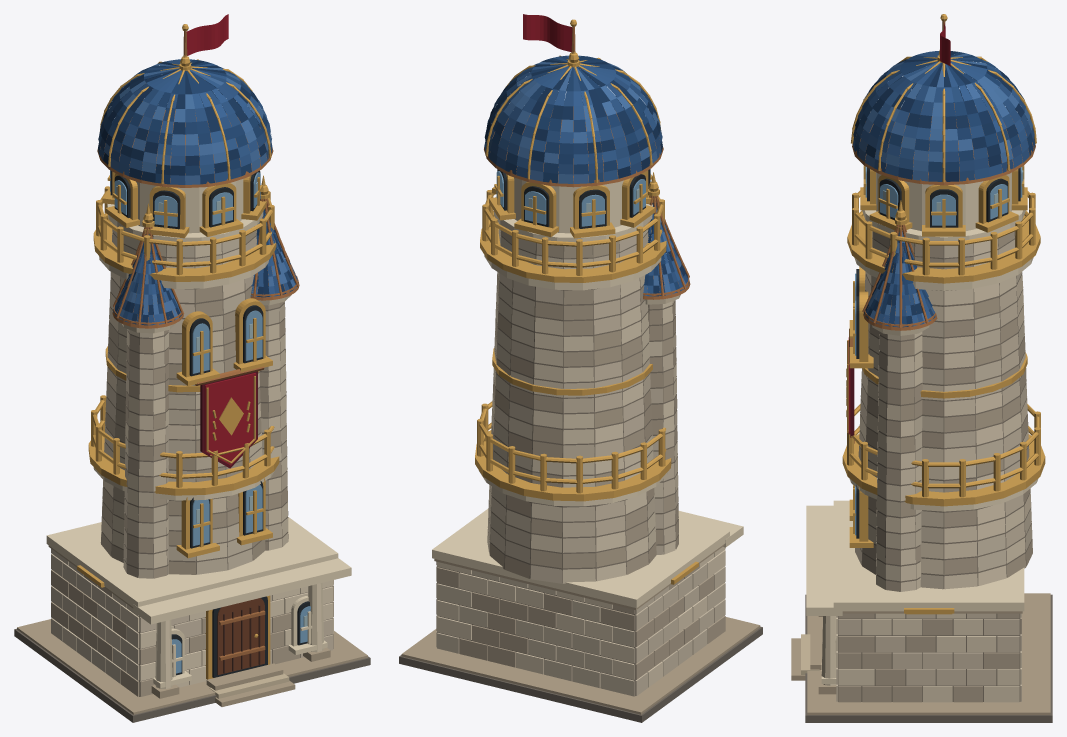
File: watch-nivel-10.glb
3 views of the same model, side by side, from view 1: azimuth 30°, elevation 25°; view 2: azimuth 150°, elevation 25°; view 3: azimuth 270°, elevation 25° (orthographic). The views are drawn at different scales.
Parts seen in each view (by area): view 1: Vigia 10 #d5a452, Vigia 10 #e6d7ba, Vigia 10 #b8a993, Vigia 10 #d2c4ad, Vigia 10 #e1d2b8, Vigia 10 #b4a38a, Vigia 10 #897e6f, Vigia 10 #355f90, Vigia 10 #1b385b, Vigia 10 #4670a0, Vigia 10 #234771, Vigia 10 #a76e42 (+10 smaller); view 2: Vigia 10 #d2c4ad, Vigia 10 #b8a993, Vigia 10 #e1d2b8, Vigia 10 #d5a452, Vigia 10 #e6d7ba, Vigia 10 #897e6f, Vigia 10 #b4a38a, Vigia 10 #234771, Vigia 10 #2e5481, Vigia 10 #355f90, Vigia 10 #1b385b, Vigia 10 #4670a0 (+5 smaller); view 3: Vigia 10 #e1d2b8, Vigia 10 #d5a452, Vigia 10 #b8a993, Vigia 10 #d2c4ad, Vigia 10 #e6d7ba, Vigia 10 #897e6f, Vigia 10 #b4a38a, Vigia 10 #2e5481, Vigia 10 #4670a0, Vigia 10 #355f90, Vigia 10 #234771, Vigia 10 #1b385b (+4 smaller).
Boxes of the visible parts, <box> form: Vigia 10 #d5a452: <box>77,24,279,679</box>; Vigia 10 #e6d7ba: <box>46,179,351,688</box>; Vigia 10 #b8a993: <box>51,230,333,696</box>; Vigia 10 #d2c4ad: <box>51,229,333,683</box>; Vigia 10 #e1d2b8: <box>62,234,333,687</box>; Vigia 10 #b4a38a: <box>17,545,367,714</box>; Vigia 10 #897e6f: <box>102,232,332,696</box>; Vigia 10 #355f90: <box>98,59,298,324</box>; Vigia 10 #1b385b: <box>98,60,293,325</box>; Vigia 10 #4670a0: <box>104,60,296,319</box>; Vigia 10 #234771: <box>99,59,294,324</box>; Vigia 10 #a76e42: <box>97,31,299,660</box>; Vigia 10 #d2c4ad: <box>436,232,725,696</box>; Vigia 10 #b8a993: <box>436,230,725,679</box>; Vigia 10 #e1d2b8: <box>436,229,725,687</box>; Vigia 10 #d5a452: <box>475,19,698,584</box>; Vigia 10 #e6d7ba: <box>432,177,743,607</box>; Vigia 10 #897e6f: <box>437,230,678,696</box>; Vigia 10 #b4a38a: <box>401,544,760,714</box>; Vigia 10 #234771: <box>489,56,685,295</box>; Vigia 10 #2e5481: <box>485,55,689,290</box>; Vigia 10 #355f90: <box>484,55,681,296</box>; Vigia 10 #1b385b: <box>484,59,688,296</box>; Vigia 10 #4670a0: <box>486,55,687,295</box>; Vigia 10 #e1d2b8: <box>836,238,1031,702</box>; Vigia 10 #d5a452: <box>842,14,1045,614</box>; Vigia 10 #b8a993: <box>838,231,1032,702</box>; Vigia 10 #d2c4ad: <box>836,231,1032,701</box>; Vigia 10 #e6d7ba: <box>806,172,1038,685</box>; Vigia 10 #897e6f: <box>838,231,1031,701</box>; Vigia 10 #b4a38a: <box>791,593,1050,714</box>; Vigia 10 #2e5481: <box>853,57,1034,327</box>; Vigia 10 #4670a0: <box>858,53,1032,323</box>; Vigia 10 #355f90: <box>854,51,1034,326</box>; Vigia 10 #234771: <box>853,52,1033,327</box>; Vigia 10 #1b385b: <box>855,51,1024,326</box>.
Size of the model in its own units: 5.37 by 13.42 by 4.91.
